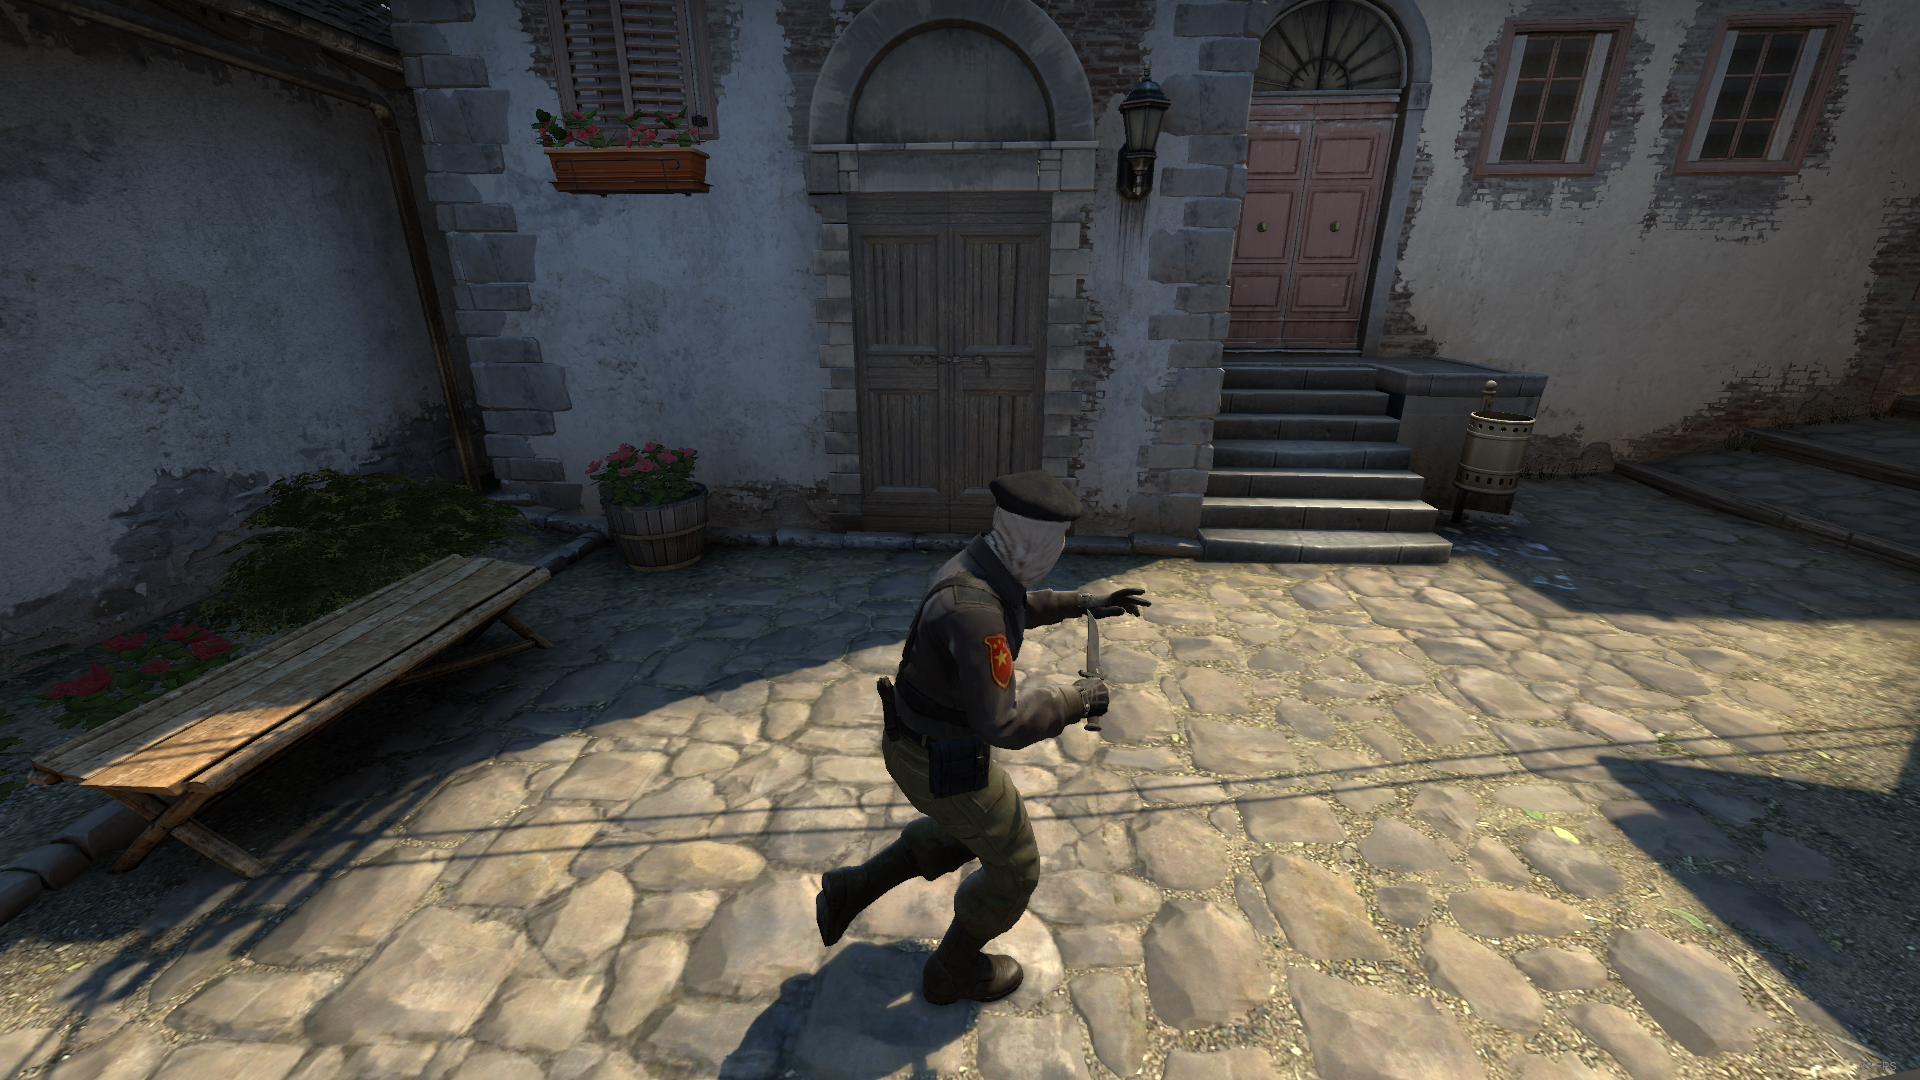t: (786, 415, 1179, 1055)
